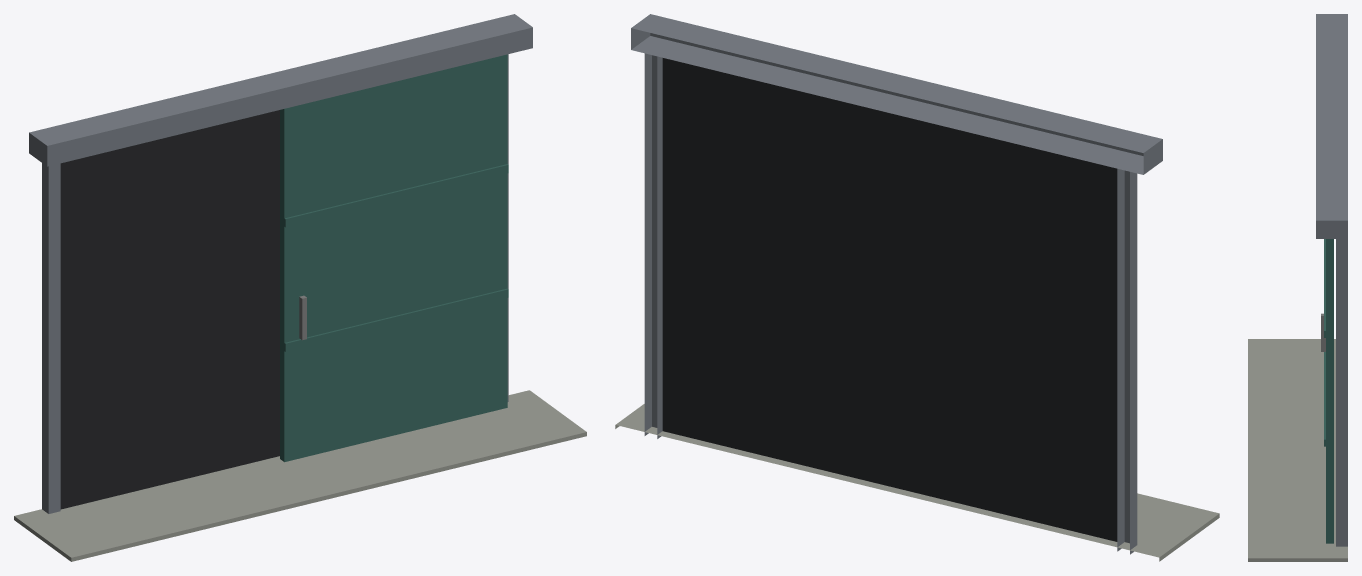
Rendered from entrance.fbx.
3 renders of one model, left to right at view 1: azimuth 30°, elevation 25°; view 2: azimuth 150°, elevation 25°; view 3: azimuth 270°, elevation 25°, orthographic. The views are drawn at different scales.
Parts seen in each view (by area): view 1: a1096/0/entrance; view 2: a1096/0/entrance; view 3: a1096/0/entrance.
Boxes of the visible parts, box(x1,y1,x2,y2) form: a1096/0/entrance: box(14, 14, 586, 561); a1096/0/entrance: box(615, 14, 1219, 561); a1096/0/entrance: box(1248, 14, 1347, 561).
Bounding box in the file's own units: 5.2 × 3.7 × 1.
